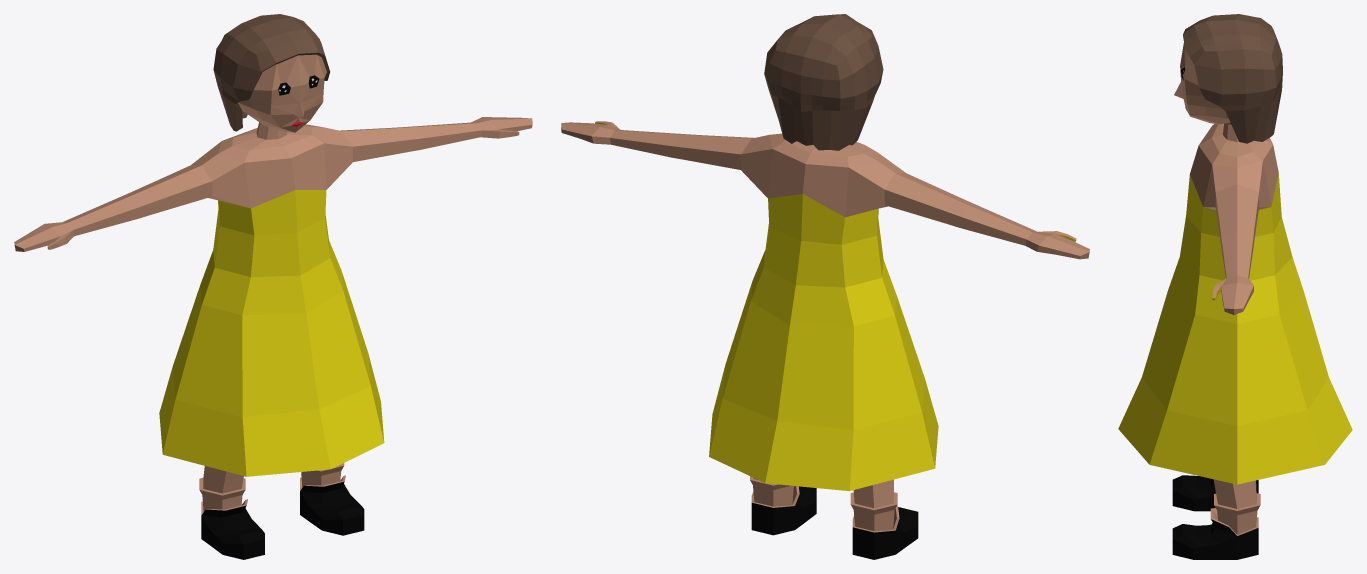
The model's file is klein meisje.fbx.
The picture shows the model from 3 angles, left to right: view 1: azimuth 30°, elevation 25°; view 2: azimuth 150°, elevation 25°; view 3: azimuth 270°, elevation 25°; orthographic projection. The views are drawn at different scales.
Parts seen in each view (by area): view 1: body, legs, haar, head; view 2: body, haar, legs; view 3: body, haar, legs, head.
Part boxes in pixels (x1=…): body: x1=14, y1=117, x2=532, y2=476; legs: x1=199, y1=463, x2=364, y2=559; haar: x1=213, y1=14, x2=330, y2=131; head: x1=238, y1=54, x2=326, y2=132; body: x1=561, y1=121, x2=1089, y2=491; haar: x1=764, y1=14, x2=883, y2=150; legs: x1=750, y1=476, x2=918, y2=559; body: x1=1118, y1=122, x2=1352, y2=484; haar: x1=1183, y1=14, x2=1282, y2=143; legs: x1=1172, y1=475, x2=1260, y2=559; head: x1=1174, y1=43, x2=1230, y2=124.
Size of the model in its own units: 533 by 494 by 208.
